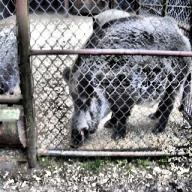boar: (63, 8, 192, 148)
